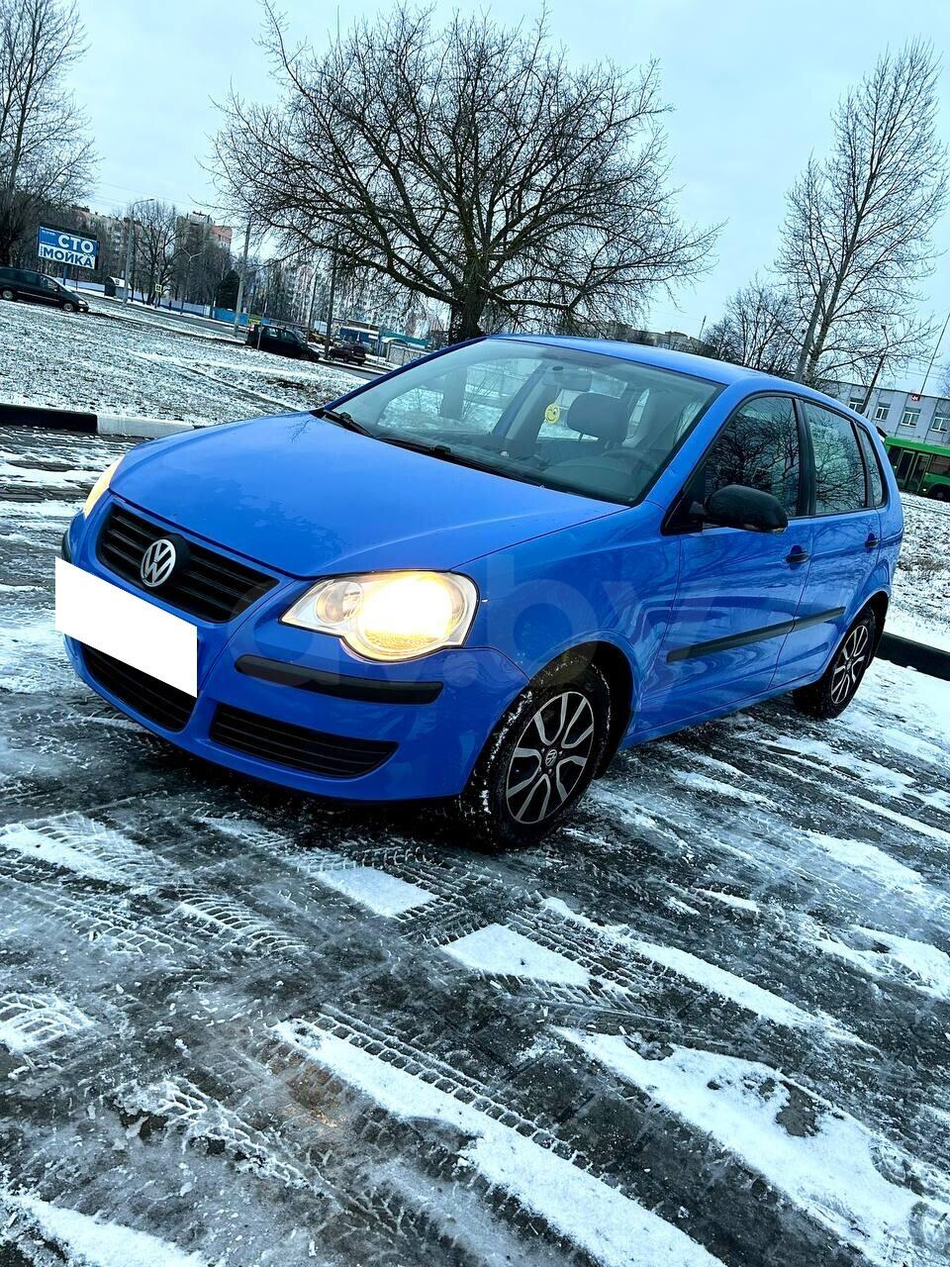Polo_2005-2009: (37, 321, 920, 876)
